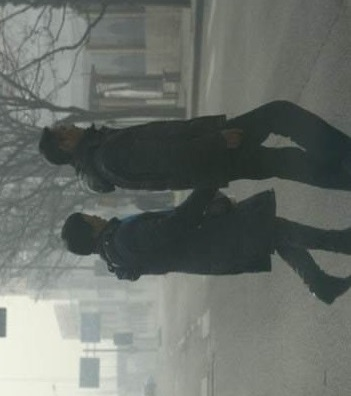person: (57, 188, 351, 305), (38, 100, 351, 187)
